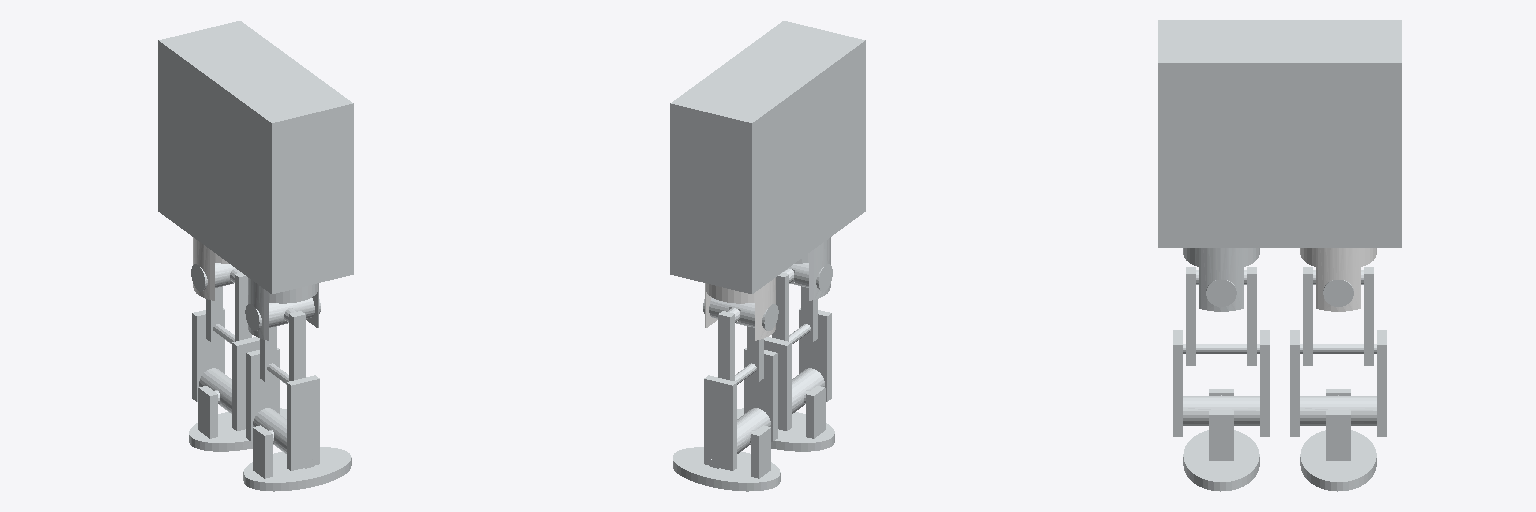
URDF robot description (Assem1):
<?xml version="1.0" encoding="utf-8"?>
<!-- This URDF was automatically created by SolidWorks to URDF Exporter! Originally created by [author] ([email redacted]) 
     Commit Version: 1.6.0-1-g15f4949  Build Version: 1.6.7594.29634
     For more information, please see http://wiki.ros.org/sw_urdf_exporter -->
<robot
  name="Assem1">
  <link
    name="base_link">
    <inertial>
      <origin
        xyz="2.6537E-17 -5.9581E-17 -0.19156"
        rpy="0 0 0" />
      <mass
        value="102.94" />
      <inertia
        ixx="3.2774"
        ixy="3.1197E-18"
        ixz="-4.1361E-17"
        iyy="1.631"
        iyz="-8.9222E-17"
        izz="2.3518" />
    </inertial>
    <visual>
      <origin
        xyz="0 0 0"
        rpy="0 0 0" />
      <geometry>
        <mesh
          filename="package://Assem1/meshes/base_link.STL" />
      </geometry>
      <material
        name="">
        <color
          rgba="0.89804 0.91765 0.92941 1" />
      </material>
    </visual>
    <collision>
      <origin
        xyz="0 0 0"
        rpy="0 0 0" />
      <geometry>
        <mesh
          filename="package://Assem1/meshes/base_link.STL" />
      </geometry>
    </collision>
  </link>
  <link
    name="r_hip_yaw_Link">
    <inertial>
      <origin
        xyz="-3.2222E-08 -1.4956E-08 -0.059211"
        rpy="0 0 0" />
      <mass
        value="5.7136" />
      <inertia
        ixx="0.015796"
        ixy="1.5808E-08"
        ixz="-2.5273E-08"
        iyy="0.016723"
        iyz="-9.1366E-09"
        izz="0.016592" />
    </inertial>
    <visual>
      <origin
        xyz="0 0 0"
        rpy="0 0 0" />
      <geometry>
        <mesh
          filename="package://Assem1/meshes/r_hip_yaw_Link.STL" />
      </geometry>
      <material
        name="">
        <color
          rgba="0.89804 0.91765 0.92941 1" />
      </material>
    </visual>
    <collision>
      <origin
        xyz="0 0 0"
        rpy="0 0 0" />
      <geometry>
        <mesh
          filename="package://Assem1/meshes/r_hip_yaw_Link.STL" />
      </geometry>
    </collision>
  </link>
  <joint
    name="r_hip_yaw_joint"
    type="continuous">
    <origin
      xyz="0 -0.115 -0.35"
      rpy="0 0 0" />
    <parent
      link="base_link" />
    <child
      link="r_hip_yaw_Link" />
    <axis
      xyz="0 0 1" />
  </joint>
  <link
    name="r_hip_roll_Link">
    <inertial>
      <origin
        xyz="-1.06042018499508E-08 -3.30072248622831E-05 -1.648603026628E-07"
        rpy="0 0 0" />
      <mass
        value="1.07509104489726" />
      <inertia
        ixx="0.00246245448952869"
        ixy="7.01466659228973E-11"
        ixz="-2.8463855882196E-10"
        iyy="0.00248949944367348"
        iyz="-7.56842525918955E-09"
        izz="0.000496411904463837" />
    </inertial>
    <visual>
      <origin
        xyz="0 0 0"
        rpy="0 0 0" />
      <geometry>
        <mesh
          filename="package://Assem1/meshes/r_hip_roll_Link.STL" />
      </geometry>
      <material
        name="">
        <color
          rgba="0.898039215686275 0.917647058823529 0.929411764705882 1" />
      </material>
    </visual>
    <collision>
      <origin
        xyz="0 0 0"
        rpy="0 0 0" />
      <geometry>
        <mesh
          filename="package://Assem1/meshes/r_hip_roll_Link.STL" />
      </geometry>
    </collision>
  </link>
  <joint
    name="r_hip_roll_joint"
    type="continuous">
    <origin
      xyz="0 0 -0.16"
      rpy="0 1.5708 0" />
    <parent
      link="r_hip_yaw_Link" />
    <child
      link="r_hip_roll_Link" />
    <axis
      xyz="0 0 1" />
  </joint>
  <link
    name="r_hip_pitch_Link">
    <inertial>
      <origin
        xyz="0.0618953633604962 3.60428534574619E-18 -1.38777878078145E-17"
        rpy="0 0 0" />
      <mass
        value="0.837715712282154" />
      <inertia
        ixx="0.00254841425528758"
        ixy="-1.9680800848903E-19"
        ixz="2.03166084006568E-19"
        iyy="0.00556069651242986"
        iyz="2.76690227353587E-20"
        izz="0.00313402224421008" />
    </inertial>
    <visual>
      <origin
        xyz="0 0 0"
        rpy="0 0 0" />
      <geometry>
        <mesh
          filename="package://Assem1/meshes/r_hip_pitch_Link.STL" />
      </geometry>
      <material
        name="">
        <color
          rgba="0.898039215686275 0.917647058823529 0.929411764705882 1" />
      </material>
    </visual>
    <collision>
      <origin
        xyz="0 0 0"
        rpy="0 0 0" />
      <geometry>
        <mesh
          filename="package://Assem1/meshes/r_hip_pitch_Link.STL" />
      </geometry>
    </collision>
  </link>
  <joint
    name="r_hip_pitch_joint"
    type="continuous">
    <origin
      xyz="0 0 0"
      rpy="-1.5707963267949 0 0" />
    <parent
      link="r_hip_roll_Link" />
    <child
      link="r_hip_pitch_Link" />
    <axis
      xyz="0 0 1" />
  </joint>
  <link
    name="r_knee_pitch_Link">
    <inertial>
      <origin
        xyz="0.0541101677070868 8.51430782767701E-18 1.38777878078145E-17"
        rpy="0 0 0" />
      <mass
        value="1.38821464764729" />
      <inertia
        ixx="0.00993763170899273"
        ixy="-6.53979425401478E-19"
        ixz="-3.31336054487962E-18"
        iyy="0.013535374958811"
        iyz="-6.53228606601891E-19"
        izz="0.00474645926716216" />
    </inertial>
    <visual>
      <origin
        xyz="0 0 0"
        rpy="0 0 0" />
      <geometry>
        <mesh
          filename="package://Assem1/meshes/r_knee_pitch_Link.STL" />
      </geometry>
      <material
        name="">
        <color
          rgba="0.898039215686275 0.917647058823529 0.929411764705882 1" />
      </material>
    </visual>
    <collision>
      <origin
        xyz="0 0 0"
        rpy="0 0 0" />
      <geometry>
        <mesh
          filename="package://Assem1/meshes/r_knee_pitch_Link.STL" />
      </geometry>
    </collision>
  </link>
  <joint
    name="r_knee_pitch_joint"
    type="continuous">
    <origin
      xyz="0.155 0 0"
      rpy="0 0 0" />
    <parent
      link="r_hip_pitch_Link" />
    <child
      link="r_knee_pitch_Link" />
    <axis
      xyz="0 0 1" />
  </joint>
  <link
    name="r_ankle_pitch_Link">
    <inertial>
      <origin
        xyz="4.2077703543697E-09 6.93870847591361E-05 -2.30867664444134E-07"
        rpy="0 0 0" />
      <mass
        value="1.39017867068021" />
      <inertia
        ixx="0.00483889685893616"
        ixy="3.63380231160822E-10"
        ixz="6.62127640390682E-10"
        iyy="0.00486694140367542"
        iyz="1.31447220737603E-08"
        izz="0.000637647579897119" />
    </inertial>
    <visual>
      <origin
        xyz="0 0 0"
        rpy="0 0 0" />
      <geometry>
        <mesh
          filename="package://Assem1/meshes/r_ankle_pitch_Link.STL" />
      </geometry>
      <material
        name="">
        <color
          rgba="0.898039215686275 0.917647058823529 0.929411764705882 1" />
      </material>
    </visual>
    <collision>
      <origin
        xyz="0 0 0"
        rpy="0 0 0" />
      <geometry>
        <mesh
          filename="package://Assem1/meshes/r_ankle_pitch_Link.STL" />
      </geometry>
    </collision>
  </link>
  <joint
    name="r_ankle_pitch_joint"
    type="continuous">
    <origin
      xyz="0.135 0 0"
      rpy="0 0 0" />
    <parent
      link="r_knee_pitch_Link" />
    <child
      link="r_ankle_pitch_Link" />
    <axis
      xyz="0 0 1" />
  </joint>
  <link
    name="r_ankle_roll_Link">
    <inertial>
      <origin
        xyz="0.0697919486284369 4.41788551086564E-06 0.0243791690768662"
        rpy="0 0 0" />
      <mass
        value="2.37628263834598" />
      <inertia
        ixx="0.0110443082874706"
        ixy="-1.24373221683551E-07"
        ixz="-0.00117063162045615"
        iyy="0.0114633781546838"
        iyz="-1.19225202595357E-07"
        izz="0.00532561533802186" />
    </inertial>
    <visual>
      <origin
        xyz="0 0 0"
        rpy="0 0 0" />
      <geometry>
        <mesh
          filename="package://Assem1/meshes/r_ankle_roll_Link.STL" />
      </geometry>
      <material
        name="">
        <color
          rgba="0.898039215686275 0.917647058823529 0.929411764705882 1" />
      </material>
    </visual>
    <collision>
      <origin
        xyz="0 0 0"
        rpy="0 0 0" />
      <geometry>
        <mesh
          filename="package://Assem1/meshes/r_ankle_roll_Link.STL" />
      </geometry>
    </collision>
  </link>
  <joint
    name="r_ankle_roll_joint"
    type="continuous">
    <origin
      xyz="0 0 0"
      rpy="1.5708 0 0" />
    <parent
      link="r_ankle_pitch_Link" />
    <child
      link="r_ankle_roll_Link" />
    <axis
      xyz="0 0 1" />
  </joint>
  <link
    name="l_hip_yaw_Link">
    <inertial>
      <origin
        xyz="0 0 0"
        rpy="0 0 0" />
      <mass
        value="0" />
      <inertia
        ixx="0"
        ixy="0"
        ixz="0"
        iyy="0"
        iyz="0"
        izz="0" />
    </inertial>
    <visual>
      <origin
        xyz="0 0 0"
        rpy="0 0 0" />
      <geometry>
        <mesh
          filename="package://Assem1/meshes/l_hip_yaw_Link.STL" />
      </geometry>
      <material
        name="">
        <color
          rgba="1 1 1 1" />
      </material>
    </visual>
    <collision>
      <origin
        xyz="0 0 0"
        rpy="0 0 0" />
      <geometry>
        <mesh
          filename="package://Assem1/meshes/l_hip_yaw_Link.STL" />
      </geometry>
    </collision>
  </link>
  <joint
    name="l_hip_yaw_joint"
    type="continuous">
    <origin
      xyz="0 0.115 -0.35"
      rpy="0 0 0" />
    <parent
      link="base_link" />
    <child
      link="l_hip_yaw_Link" />
    <axis
      xyz="0 0 1" />
  </joint>
  <link
    name="l_hip_roll_Link">
    <inertial>
      <origin
        xyz="-1.06042018499508E-08 -3.30072248622693E-05 -1.6486030268555E-07"
        rpy="0 0 0" />
      <mass
        value="1.07509104489726" />
      <inertia
        ixx="0.00246245448952869"
        ixy="7.01466655466693E-11"
        ixz="-2.84638558251497E-10"
        iyy="0.00248949944367348"
        iyz="-7.56842525943005E-09"
        izz="0.000496411904463837" />
    </inertial>
    <visual>
      <origin
        xyz="0 0 0"
        rpy="0 0 0" />
      <geometry>
        <mesh
          filename="package://Assem1/meshes/l_hip_roll_Link.STL" />
      </geometry>
      <material
        name="">
        <color
          rgba="0.898039215686275 0.917647058823529 0.929411764705882 1" />
      </material>
    </visual>
    <collision>
      <origin
        xyz="0 0 0"
        rpy="0 0 0" />
      <geometry>
        <mesh
          filename="package://Assem1/meshes/l_hip_roll_Link.STL" />
      </geometry>
    </collision>
  </link>
  <joint
    name="l_hip_roll_joint"
    type="continuous">
    <origin
      xyz="0 0 -0.16"
      rpy="0 1.5707963267949 0" />
    <parent
      link="l_hip_yaw_Link" />
    <child
      link="l_hip_roll_Link" />
    <axis
      xyz="0 0 1" />
  </joint>
  <link
    name="l_hip_pitch_Link">
    <inertial>
      <origin
        xyz="0.0618953633604965 1.45466817692286E-17 9.71445146547012E-17"
        rpy="0 0 0" />
      <mass
        value="0.837715712282153" />
      <inertia
        ixx="0.00254841425528758"
        ixy="1.02442318608595E-19"
        ixz="1.29027140607899E-18"
        iyy="0.00556069651242986"
        iyz="1.87570031486169E-20"
        izz="0.00313402224421008" />
    </inertial>
    <visual>
      <origin
        xyz="0 0 0"
        rpy="0 0 0" />
      <geometry>
        <mesh
          filename="package://Assem1/meshes/l_hip_pitch_Link.STL" />
      </geometry>
      <material
        name="">
        <color
          rgba="0.898039215686275 0.917647058823529 0.929411764705882 1" />
      </material>
    </visual>
    <collision>
      <origin
        xyz="0 0 0"
        rpy="0 0 0" />
      <geometry>
        <mesh
          filename="package://Assem1/meshes/l_hip_pitch_Link.STL" />
      </geometry>
    </collision>
  </link>
  <joint
    name="l_hip_pitch_joint"
    type="continuous">
    <origin
      xyz="0 0 0"
      rpy="-1.5707963267949 0 0" />
    <parent
      link="l_hip_roll_Link" />
    <child
      link="l_hip_pitch_Link" />
    <axis
      xyz="0 0 1" />
  </joint>
  <link
    name="l_knee_pitch_Link">
    <inertial>
      <origin
        xyz="0.0541101677070869 1.27900534879162E-18 9.71445146547012E-17"
        rpy="0 0 0" />
      <mass
        value="1.38821464764729" />
      <inertia
        ixx="0.00993763170899274"
        ixy="-2.55076596148508E-19"
        ixz="6.92200318920164E-19"
        iyy="0.013535374958811"
        iyz="-4.18081372552263E-19"
        izz="0.00474645926716218" />
    </inertial>
    <visual>
      <origin
        xyz="0 0 0"
        rpy="0 0 0" />
      <geometry>
        <mesh
          filename="package://Assem1/meshes/l_knee_pitch_Link.STL" />
      </geometry>
      <material
        name="">
        <color
          rgba="0.898039215686275 0.917647058823529 0.929411764705882 1" />
      </material>
    </visual>
    <collision>
      <origin
        xyz="0 0 0"
        rpy="0 0 0" />
      <geometry>
        <mesh
          filename="package://Assem1/meshes/l_knee_pitch_Link.STL" />
      </geometry>
    </collision>
  </link>
  <joint
    name="l_knee_pitch_joint"
    type="continuous">
    <origin
      xyz="0.155 0 0"
      rpy="0 0 0" />
    <parent
      link="l_hip_pitch_Link" />
    <child
      link="l_knee_pitch_Link" />
    <axis
      xyz="0 0 1" />
  </joint>
  <link
    name="l_ankle_pitch_Link">
    <inertial>
      <origin
        xyz="4.2077703543697E-09 6.93870847590972E-05 -2.30867664374745E-07"
        rpy="0 0 0" />
      <mass
        value="1.39017867068021" />
      <inertia
        ixx="0.00483889685893615"
        ixy="3.63380231159723E-10"
        ixz="6.62127639821811E-10"
        iyy="0.00486694140367541"
        iyz="1.31447220728015E-08"
        izz="0.000637647579897118" />
    </inertial>
    <visual>
      <origin
        xyz="0 0 0"
        rpy="0 0 0" />
      <geometry>
        <mesh
          filename="package://Assem1/meshes/l_ankle_pitch_Link.STL" />
      </geometry>
      <material
        name="">
        <color
          rgba="0.898039215686275 0.917647058823529 0.929411764705882 1" />
      </material>
    </visual>
    <collision>
      <origin
        xyz="0 0 0"
        rpy="0 0 0" />
      <geometry>
        <mesh
          filename="package://Assem1/meshes/l_ankle_pitch_Link.STL" />
      </geometry>
    </collision>
  </link>
  <joint
    name="l_ankle_pitch_joint"
    type="continuous">
    <origin
      xyz="0.135 0 0"
      rpy="0 0 0" />
    <parent
      link="l_knee_pitch_Link" />
    <child
      link="l_ankle_pitch_Link" />
    <axis
      xyz="0 0 1" />
  </joint>
  <link
    name="l_ankle_roll_Link">
    <inertial>
      <origin
        xyz="0.0697919486284372 4.4178855109489E-06 0.0243791690768663"
        rpy="0 0 0" />
      <mass
        value="2.37628263834598" />
      <inertia
        ixx="0.0110443082874705"
        ixy="-1.24373221683566E-07"
        ixz="-0.00117063162045615"
        iyy="0.0114633781546838"
        iyz="-1.19225202594142E-07"
        izz="0.00532561533802184" />
    </inertial>
    <visual>
      <origin
        xyz="0 0 0"
        rpy="0 0 0" />
      <geometry>
        <mesh
          filename="package://Assem1/meshes/l_ankle_roll_Link.STL" />
      </geometry>
      <material
        name="">
        <color
          rgba="0.898039215686275 0.917647058823529 0.929411764705882 1" />
      </material>
    </visual>
    <collision>
      <origin
        xyz="0 0 0"
        rpy="0 0 0" />
      <geometry>
        <mesh
          filename="package://Assem1/meshes/l_ankle_roll_Link.STL" />
      </geometry>
    </collision>
  </link>
  <joint
    name="l_ankle_roll_joint"
    type="continuous">
    <origin
      xyz="0 0 0"
      rpy="1.5708 0 0" />
    <parent
      link="l_ankle_pitch_Link" />
    <child
      link="l_ankle_roll_Link" />
    <axis
      xyz="0 0 1" />
  </joint>
</robot>

--- Render facts (derived) ---
3 views of the same robot in one strip: view 1: azimuth 30°, elevation 25°; view 2: azimuth 150°, elevation 25°; view 3: azimuth 270°, elevation 25° (orthographic).
Model Assem1 with 13 links and 12 joints (12 continuous), rooted at base_link, posed all joints at 0.
Links seen in each view (by area): view 1: base_link, r_knee_pitch_Link, r_ankle_roll_Link, l_knee_pitch_Link, l_ankle_roll_Link, r_hip_pitch_Link, l_hip_pitch_Link, r_hip_yaw_Link, r_ankle_pitch_Link, r_hip_roll_Link, l_hip_yaw_Link, l_ankle_pitch_Link (+1 smaller); view 2: base_link, l_knee_pitch_Link, l_ankle_roll_Link, r_knee_pitch_Link, r_ankle_roll_Link, l_hip_pitch_Link, r_hip_pitch_Link, l_hip_yaw_Link, l_ankle_pitch_Link, l_hip_roll_Link, r_hip_yaw_Link, r_ankle_pitch_Link (+1 smaller); view 3: base_link, r_ankle_roll_Link, l_ankle_roll_Link, r_knee_pitch_Link, l_knee_pitch_Link, r_hip_yaw_Link, l_hip_yaw_Link, r_hip_pitch_Link, l_hip_pitch_Link, r_ankle_pitch_Link, l_ankle_pitch_Link, r_hip_roll_Link (+1 smaller).
Boxes of the visible links, bbox=[...] form: base_link: bbox=[158, 21, 353, 293]; r_knee_pitch_Link: bbox=[246, 348, 319, 470]; r_ankle_roll_Link: bbox=[243, 425, 351, 491]; l_knee_pitch_Link: bbox=[192, 308, 259, 430]; l_ankle_roll_Link: bbox=[189, 386, 286, 451]; r_hip_pitch_Link: bbox=[260, 308, 305, 381]; l_hip_pitch_Link: bbox=[206, 268, 251, 341]; r_hip_yaw_Link: bbox=[248, 278, 318, 340]; r_ankle_pitch_Link: bbox=[253, 408, 317, 463]; r_hip_roll_Link: bbox=[245, 298, 320, 330]; l_hip_yaw_Link: bbox=[193, 237, 228, 300]; l_ankle_pitch_Link: bbox=[199, 368, 245, 422]; base_link: bbox=[670, 21, 865, 293]; l_knee_pitch_Link: bbox=[704, 348, 777, 470]; l_ankle_roll_Link: bbox=[673, 425, 780, 491]; r_knee_pitch_Link: bbox=[764, 308, 831, 430]; r_ankle_roll_Link: bbox=[737, 386, 834, 451]; l_hip_pitch_Link: bbox=[718, 308, 763, 381]; r_hip_pitch_Link: bbox=[772, 268, 817, 341]; l_hip_yaw_Link: bbox=[705, 278, 775, 340]; l_ankle_pitch_Link: bbox=[706, 408, 770, 463]; l_hip_roll_Link: bbox=[703, 298, 778, 330]; r_hip_yaw_Link: bbox=[795, 237, 830, 300]; r_ankle_pitch_Link: bbox=[778, 368, 824, 423]; base_link: bbox=[1158, 20, 1401, 247]; r_ankle_roll_Link: bbox=[1183, 389, 1259, 491]; l_ankle_roll_Link: bbox=[1300, 389, 1376, 491]; r_knee_pitch_Link: bbox=[1173, 330, 1269, 436]; l_knee_pitch_Link: bbox=[1290, 330, 1386, 436]; r_hip_yaw_Link: bbox=[1183, 248, 1259, 311]; l_hip_yaw_Link: bbox=[1300, 248, 1376, 311]; r_hip_pitch_Link: bbox=[1186, 267, 1256, 365]; l_hip_pitch_Link: bbox=[1303, 267, 1373, 365]; r_ankle_pitch_Link: bbox=[1183, 396, 1259, 425]; l_ankle_pitch_Link: bbox=[1300, 396, 1376, 425]; r_hip_roll_Link: bbox=[1206, 280, 1236, 306].
Size in the robot's own frame: 0.2599 by 0.48 by 0.9 metres.
13 mesh visuals loaded from 13 distinct referenced files (13 binary STL).
